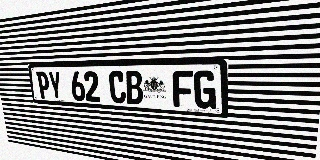2: (83, 71, 100, 102)
6: (70, 71, 86, 101)
B: (125, 71, 143, 105)
C: (108, 71, 126, 104)
F: (172, 71, 193, 108)
G: (194, 70, 216, 109)
P: (36, 71, 51, 99)
Y: (48, 71, 63, 100)
